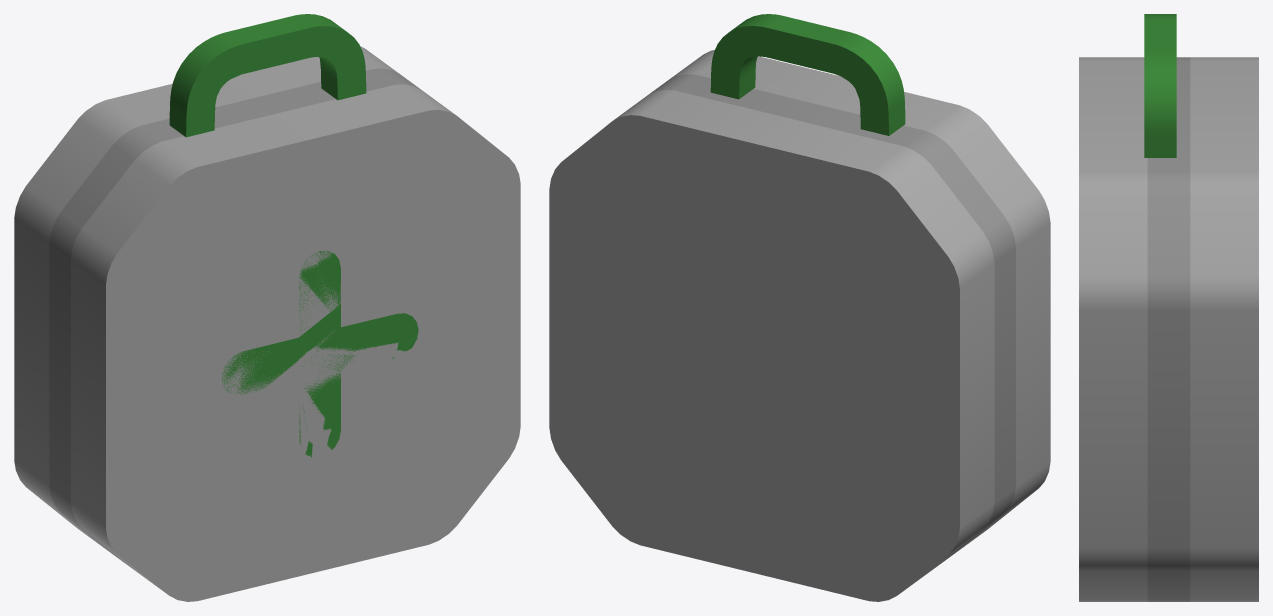
The model's file is First Aid B.fbx.
3 renders of one model, left to right at view 1: azimuth 30°, elevation 25°; view 2: azimuth 150°, elevation 25°; view 3: azimuth 270°, elevation 25°, orthographic.
Visible parts, largest first — view 1: First Aid.013; view 2: First Aid.013; view 3: First Aid.013.
Part boxes in pixels (left/top/right/bottom): First Aid.013: left=14, top=14, right=520, bottom=601; First Aid.013: left=549, top=14, right=1050, bottom=601; First Aid.013: left=1079, top=14, right=1258, bottom=601.
Size of the model in its own units: 0.6014 by 0.7113 by 0.23.
